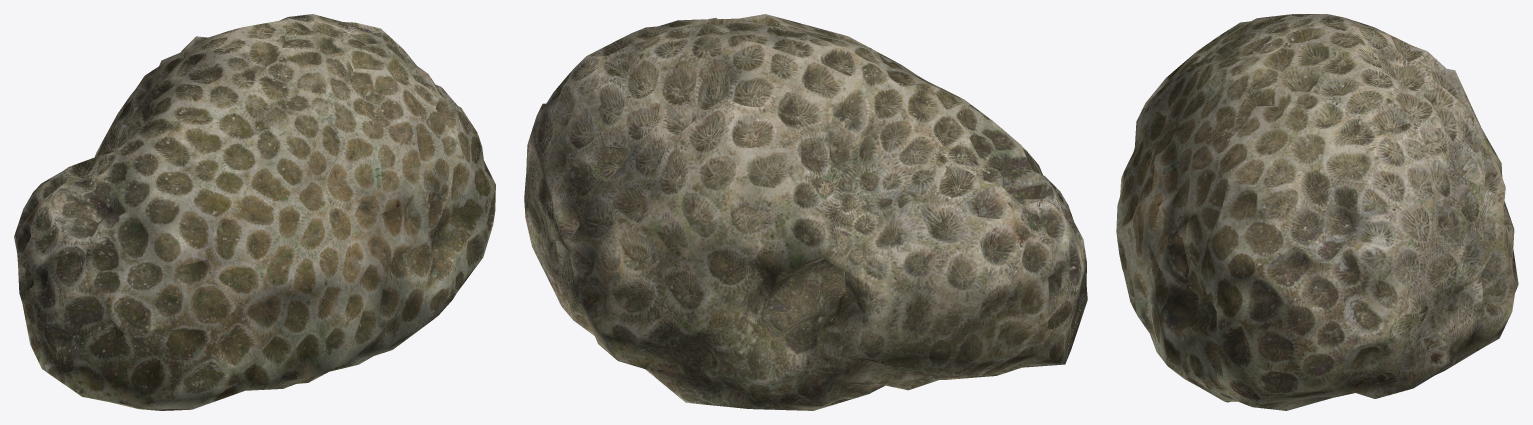
Rendered from thai_beach_coral_ufnxefkfa_low.glb.
3 views of the same model, side by side, from view 1: azimuth 30°, elevation 25°; view 2: azimuth 150°, elevation 25°; view 3: azimuth 270°, elevation 25° (orthographic). The views are drawn at different scales.
Visible parts, largest first — view 1: ufnxefkfa_LOD0_TIER3_000; view 2: ufnxefkfa_LOD0_TIER3_000; view 3: ufnxefkfa_LOD0_TIER3_000.
Boxes of the visible parts, <box> form: ufnxefkfa_LOD0_TIER3_000: <box>14,14,495,410</box>; ufnxefkfa_LOD0_TIER3_000: <box>524,14,1087,410</box>; ufnxefkfa_LOD0_TIER3_000: <box>1116,14,1518,410</box>.
Size of the model in its own units: 0.3297 by 0.2126 by 0.2251.
1 material, 1 textured.
